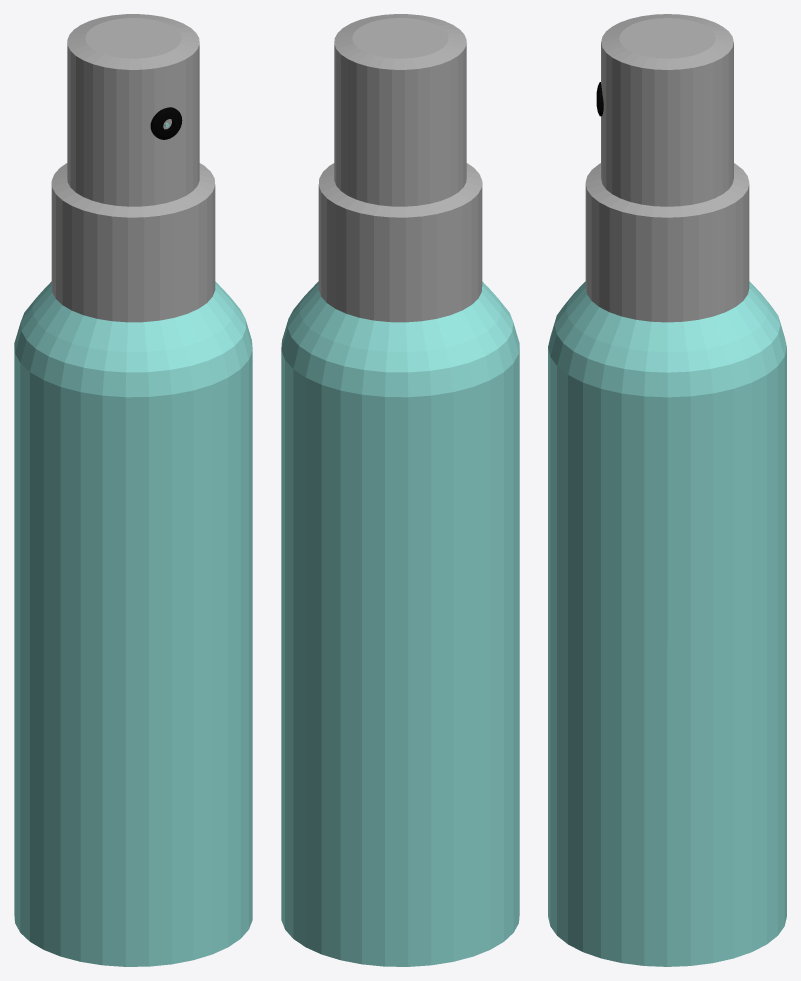
The model's file is Spray Full.fbx.
3 views of the same model, side by side, from view 1: azimuth 30°, elevation 25°; view 2: azimuth 150°, elevation 25°; view 3: azimuth 270°, elevation 25° (orthographic).
Parts seen in each view (by area): view 1: Cylinder; view 2: Cylinder; view 3: Cylinder.
Boxes of the visible parts, x1,y1,x2,y2 form: Cylinder: (14,14,252,966); Cylinder: (281,14,519,966); Cylinder: (548,14,786,966).
Bounding box in the file's own units: 128 × 518 × 128.
